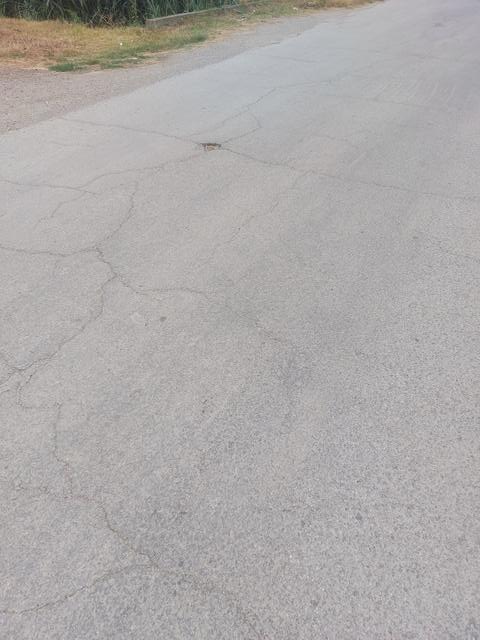pothole: (195, 127, 240, 175)
